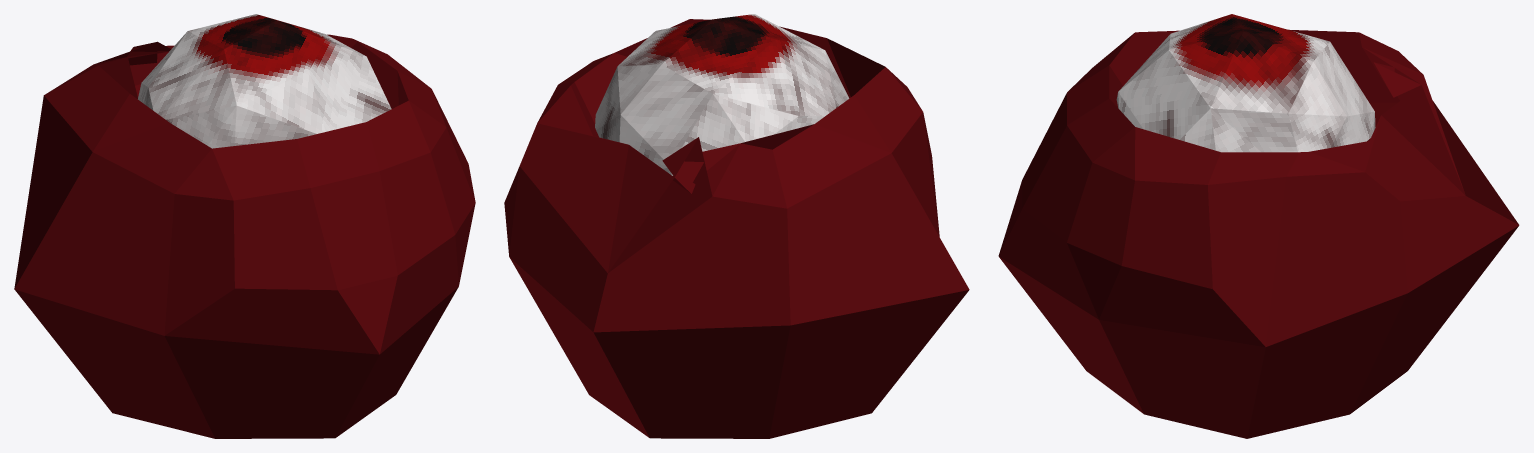
The model's file is flyingeye.glb.
The picture shows the model from 3 angles, left to right: view 1: azimuth 30°, elevation 25°; view 2: azimuth 150°, elevation 25°; view 3: azimuth 270°, elevation 25°; orthographic projection.
Visible parts, largest first — view 1: Cube, Sphere; view 2: Cube, Sphere; view 3: Cube, Sphere.
Part boxes in pixels (x1,y1,x2,y2): Cube: (14, 34, 475, 438); Sphere: (138, 14, 391, 148); Cube: (504, 19, 969, 438); Sphere: (595, 14, 849, 175); Cube: (998, 29, 1519, 438); Sphere: (1116, 14, 1375, 152).
Size of the model in its own units: 6.25 by 4.63 by 6.26.
Materials: 2 (1 with a texture image).
